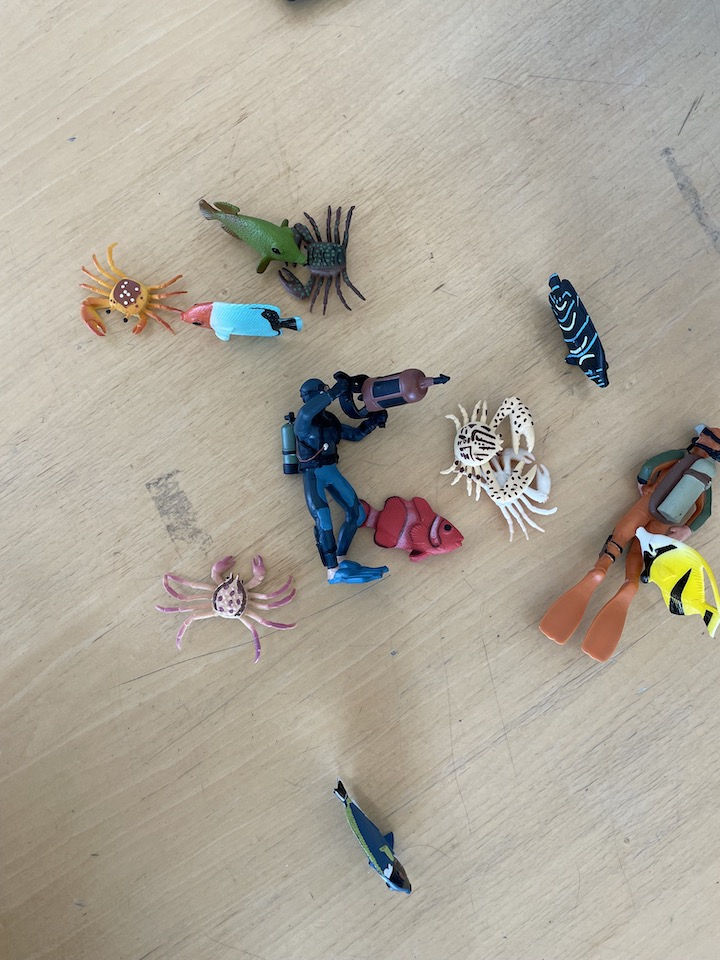crab: (152, 549, 300, 663), (436, 392, 541, 506), (270, 200, 370, 317), (78, 240, 190, 343), (462, 443, 560, 546)
danger: (633, 523, 720, 643)
diver: (535, 421, 720, 665), (278, 368, 453, 588)
fish: (187, 192, 314, 277), (331, 775, 417, 900), (541, 269, 614, 396), (350, 487, 471, 557), (179, 296, 306, 352)
